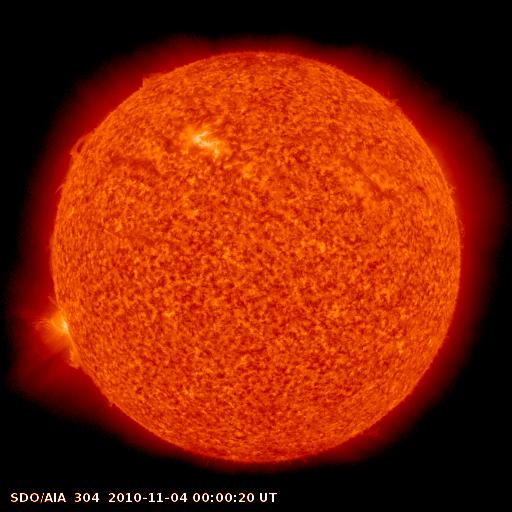prominence: (50, 120, 99, 176), (125, 61, 182, 99)
